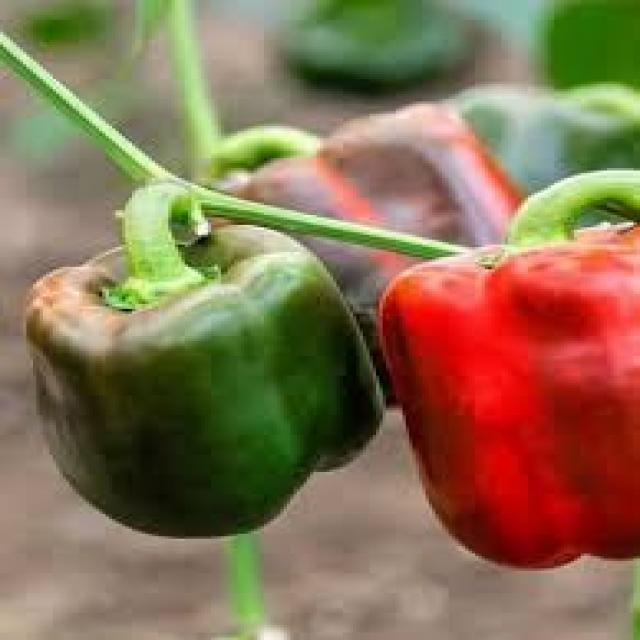bell_pepper: (16, 212, 392, 552)
